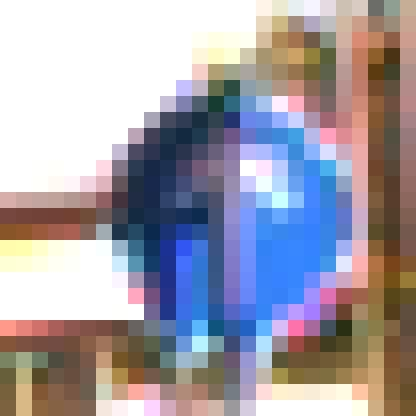AheadOnly: (97, 97, 337, 337)
